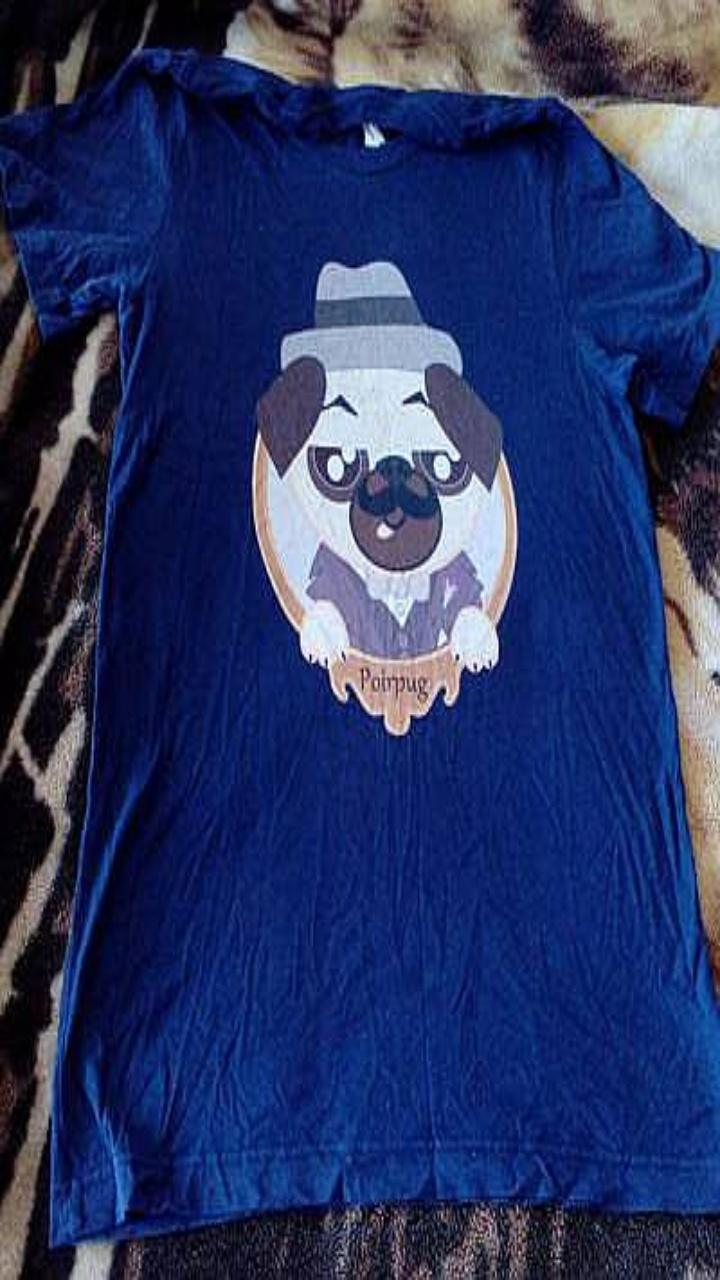T-Shirt: (0, 49, 719, 1244)
